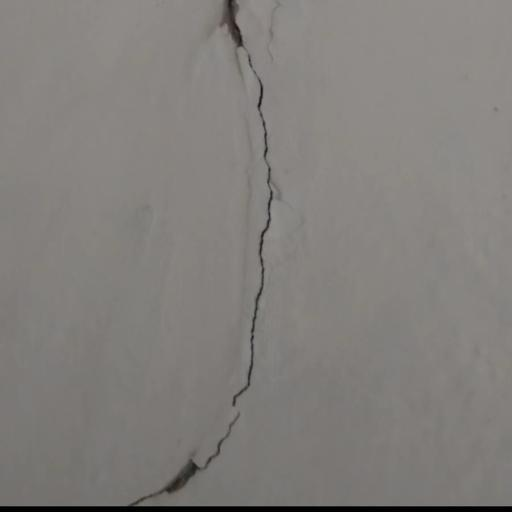major_crack: (120, 0, 294, 507)
